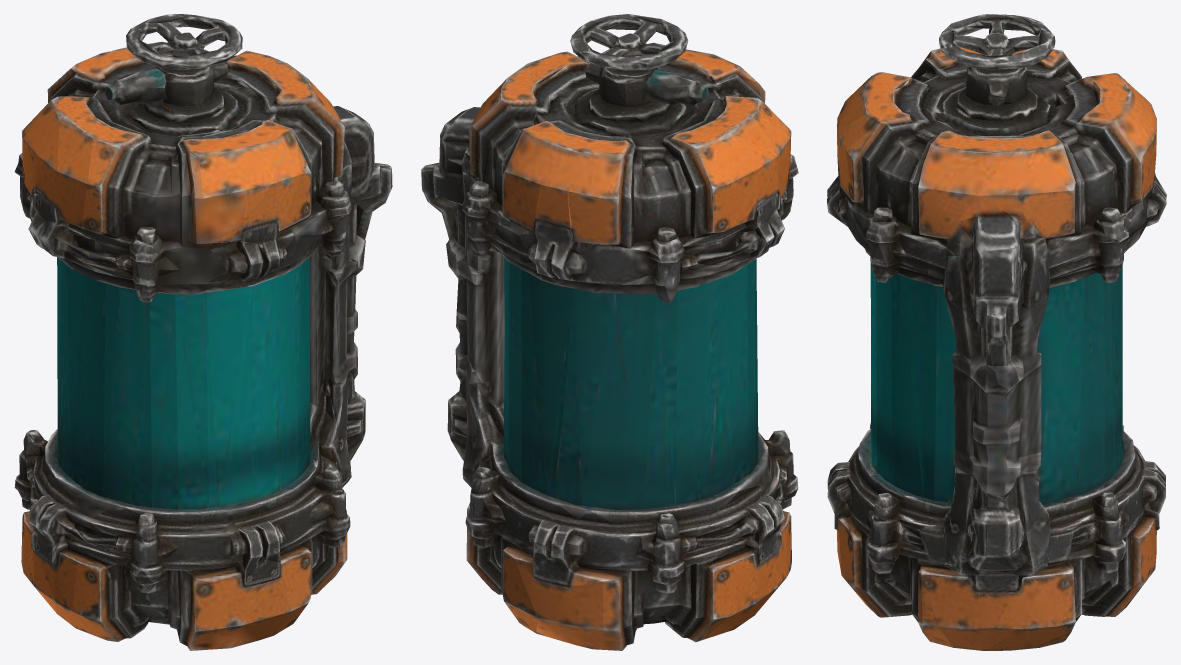
Rendered from nanite.glb.
The picture shows the model from 3 angles, left to right: view 1: azimuth 30°, elevation 25°; view 2: azimuth 150°, elevation 25°; view 3: azimuth 270°, elevation 25°; orthographic projection.
Visible parts, largest first — view 1: Mesh_0; view 2: Mesh_0; view 3: Mesh_0.
Part boxes in pixels (bbox=[...]): Mesh_0: bbox=[14, 14, 392, 650]; Mesh_0: bbox=[421, 14, 798, 650]; Mesh_0: bbox=[827, 14, 1166, 650].
Size of the model in its own units: 0.3974 by 0.6 by 0.3303.
Materials: 1 (1 with a texture image).
